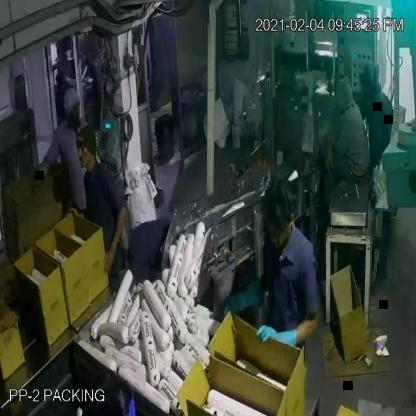glove: (219, 270, 276, 324), (251, 314, 320, 354)
no_glove: (99, 198, 132, 288), (25, 141, 60, 199), (0, 298, 25, 344), (320, 136, 338, 178)
